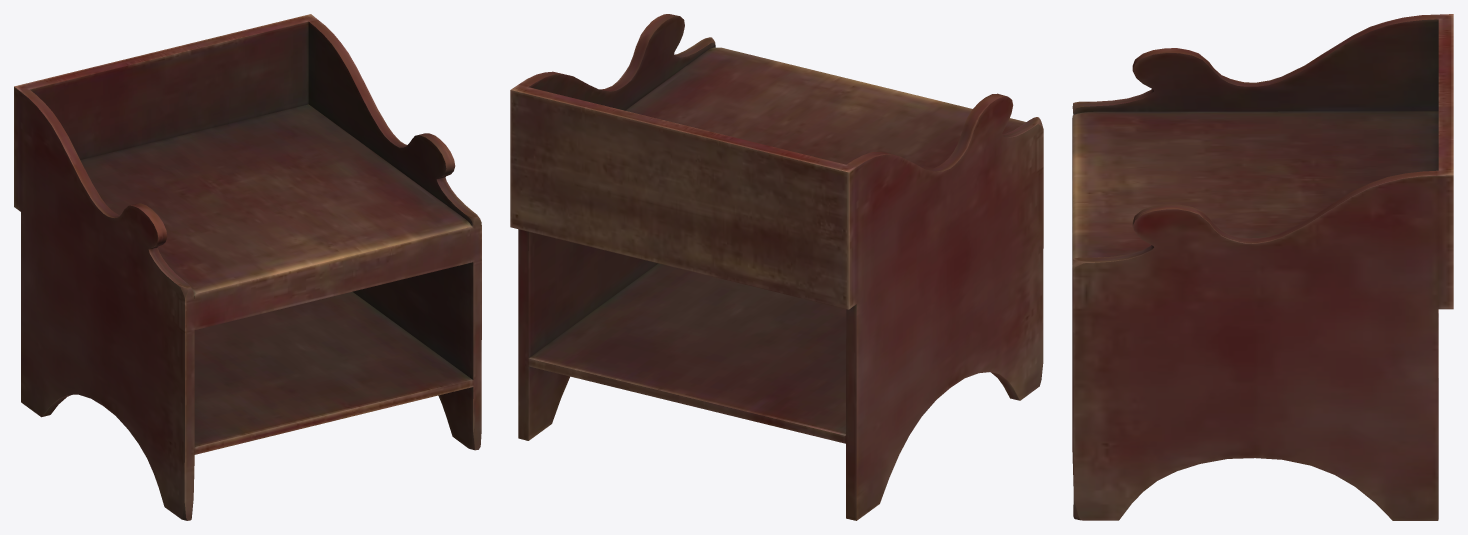
The model's file is ph-painted-wooden-bench.glb.
The picture shows the model from 3 angles, left to right: view 1: azimuth 30°, elevation 25°; view 2: azimuth 150°, elevation 25°; view 3: azimuth 270°, elevation 25°; orthographic projection. The views are drawn at different scales.
Parts seen in each view (by area): view 1: painted_wooden_bench; view 2: painted_wooden_bench; view 3: painted_wooden_bench.
Part boxes in pixels (<box>): painted_wooden_bench: <box>14,14,481,520</box>; painted_wooden_bench: <box>510,14,1043,520</box>; painted_wooden_bench: <box>1072,14,1453,520</box>.
Bounding box in the file's own units: 1 × 1 × 1.
1 material, 1 textured.
